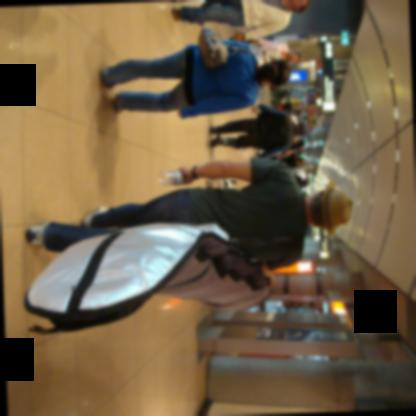handbag: (196, 26, 255, 68)
